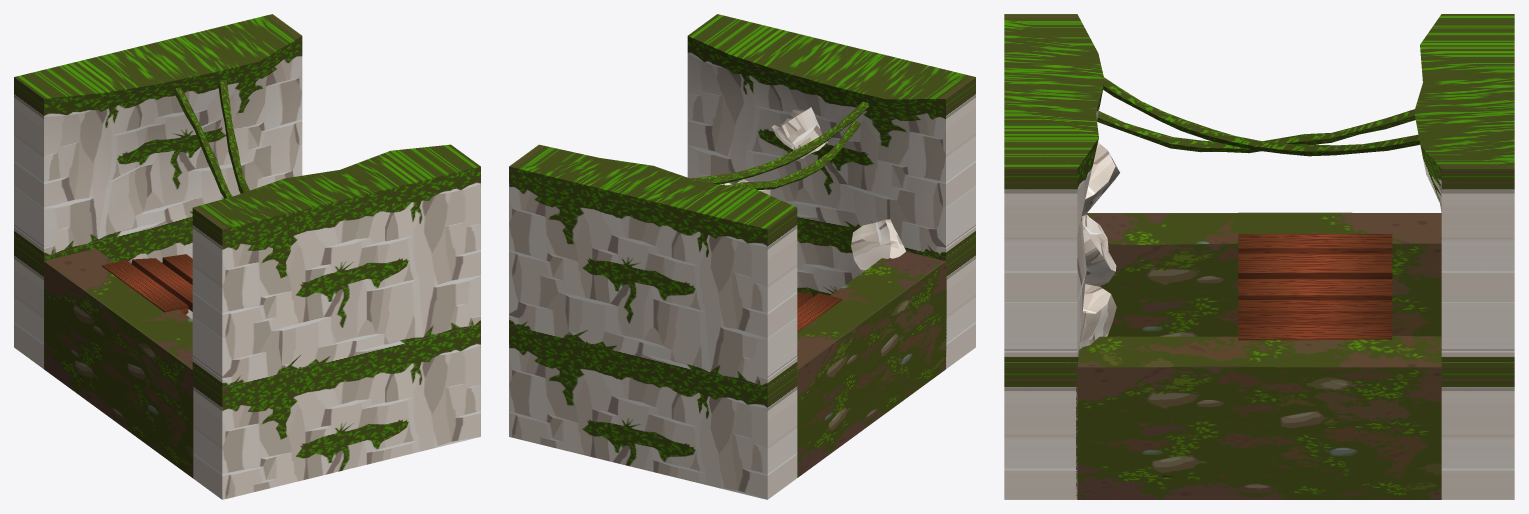
File: Bridge.fbx
3 views of the same model, side by side, from view 1: azimuth 30°, elevation 25°; view 2: azimuth 150°, elevation 25°; view 3: azimuth 270°, elevation 25° (orthographic). The views are drawn at different scales.
Visible parts, largest first — view 1: Box007, Box006, Box005, Box024, Box023, Line004, Line003, Box022; view 2: Box006, Box007, Box005, Box025, Line003, Box027, Line004, Box024; view 3: Box005, Box007, Box006, Box023, Line003, Box022, Line004, Box024, Box019, Box021, Box020, Box026 (+2 smaller).
Boxes of the visible parts, x1=… form: Box007: x1=192, y1=144, x2=480, y2=499; Box006: x1=14, y1=14, x2=302, y2=368; Box005: x1=44, y1=248, x2=193, y2=478; Box024: x1=102, y1=259, x2=188, y2=313; Box023: x1=131, y1=258, x2=192, y2=311; Line004: x1=173, y1=87, x2=232, y2=198; Line003: x1=218, y1=79, x2=249, y2=193; Box022: x1=162, y1=254, x2=192, y2=284; Box006: x1=509, y1=144, x2=797, y2=499; Box007: x1=687, y1=14, x2=975, y2=368; Box005: x1=797, y1=251, x2=946, y2=477; Box025: x1=851, y1=219, x2=905, y2=272; Line003: x1=690, y1=102, x2=869, y2=184; Box027: x1=772, y1=107, x2=827, y2=158; Line004: x1=728, y1=121, x2=860, y2=189; Box024: x1=797, y1=293, x2=842, y2=332; Box005: x1=1076, y1=212, x2=1441, y2=499; Box007: x1=1004, y1=14, x2=1104, y2=499; Box006: x1=1414, y1=14, x2=1514, y2=499; Box023: x1=1238, y1=253, x2=1392, y2=278; Line003: x1=1103, y1=77, x2=1420, y2=156; Box022: x1=1238, y1=279, x2=1392, y2=299; Line004: x1=1097, y1=109, x2=1415, y2=153; Box024: x1=1238, y1=234, x2=1392, y2=253; Box019: x1=1238, y1=324, x2=1392, y2=340; Box021: x1=1238, y1=300, x2=1392, y2=313; Box020: x1=1238, y1=313, x2=1392, y2=324; Box026: x1=1079, y1=284, x2=1116, y2=349.
Size of the model in its own units: 197 by 197 by 275.
